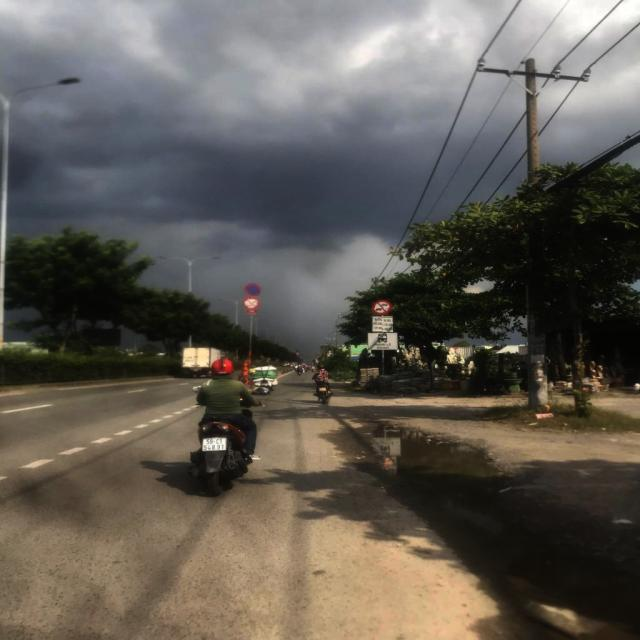cam_dung_xe_va_do_xe: (244, 284, 260, 296)
cam_o_to_tai_va_xe_khach: (372, 299, 392, 315)
cam_xe_2_banh_va_xe_3_banh_co_dong_co: (244, 296, 260, 309)
khac: (367, 332, 398, 350), (373, 316, 393, 332)
